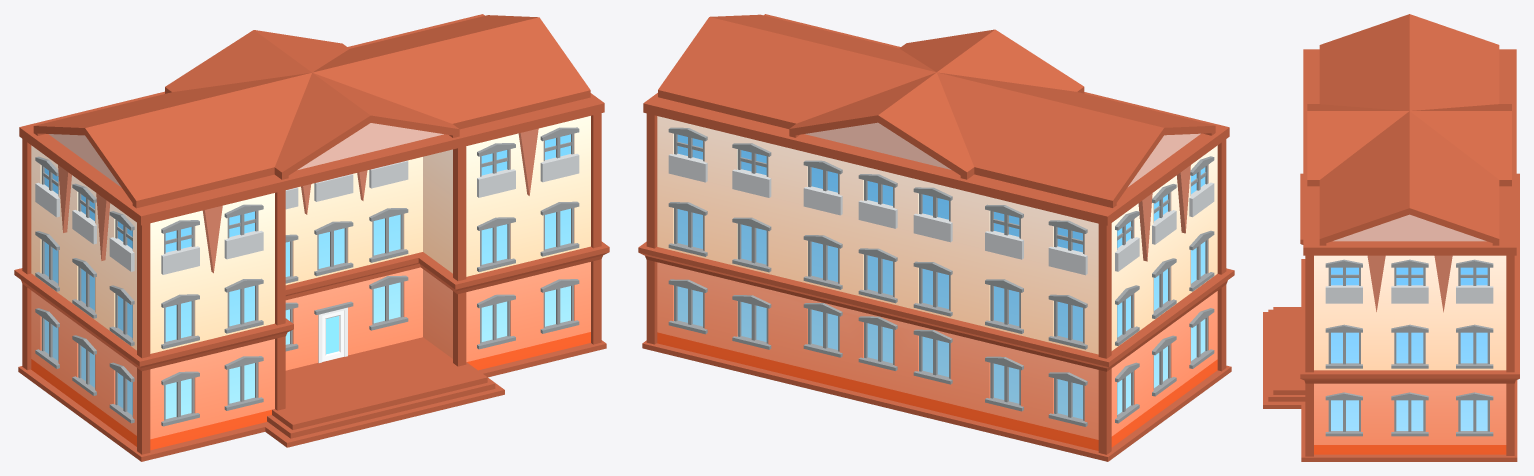
File: Building_State_05.glb
3 views of the same model, side by side, from view 1: azimuth 30°, elevation 25°; view 2: azimuth 150°, elevation 25°; view 3: azimuth 270°, elevation 25° (orthographic). The views are drawn at different scales.
Parts seen in each view (by area): view 1: Building_State_05; view 2: Building_State_05; view 3: Building_State_05.
Part boxes in pixels (left/top/right/bottom): Building_State_05: left=14, top=14, right=609, bottom=461; Building_State_05: left=638, top=14, right=1234, bottom=461; Building_State_05: left=1263, top=14, right=1519, bottom=461.
Bounding box in the file's own units: 22.71 × 13.27 × 12.28.
Materials: 1 (1 with a texture image).
